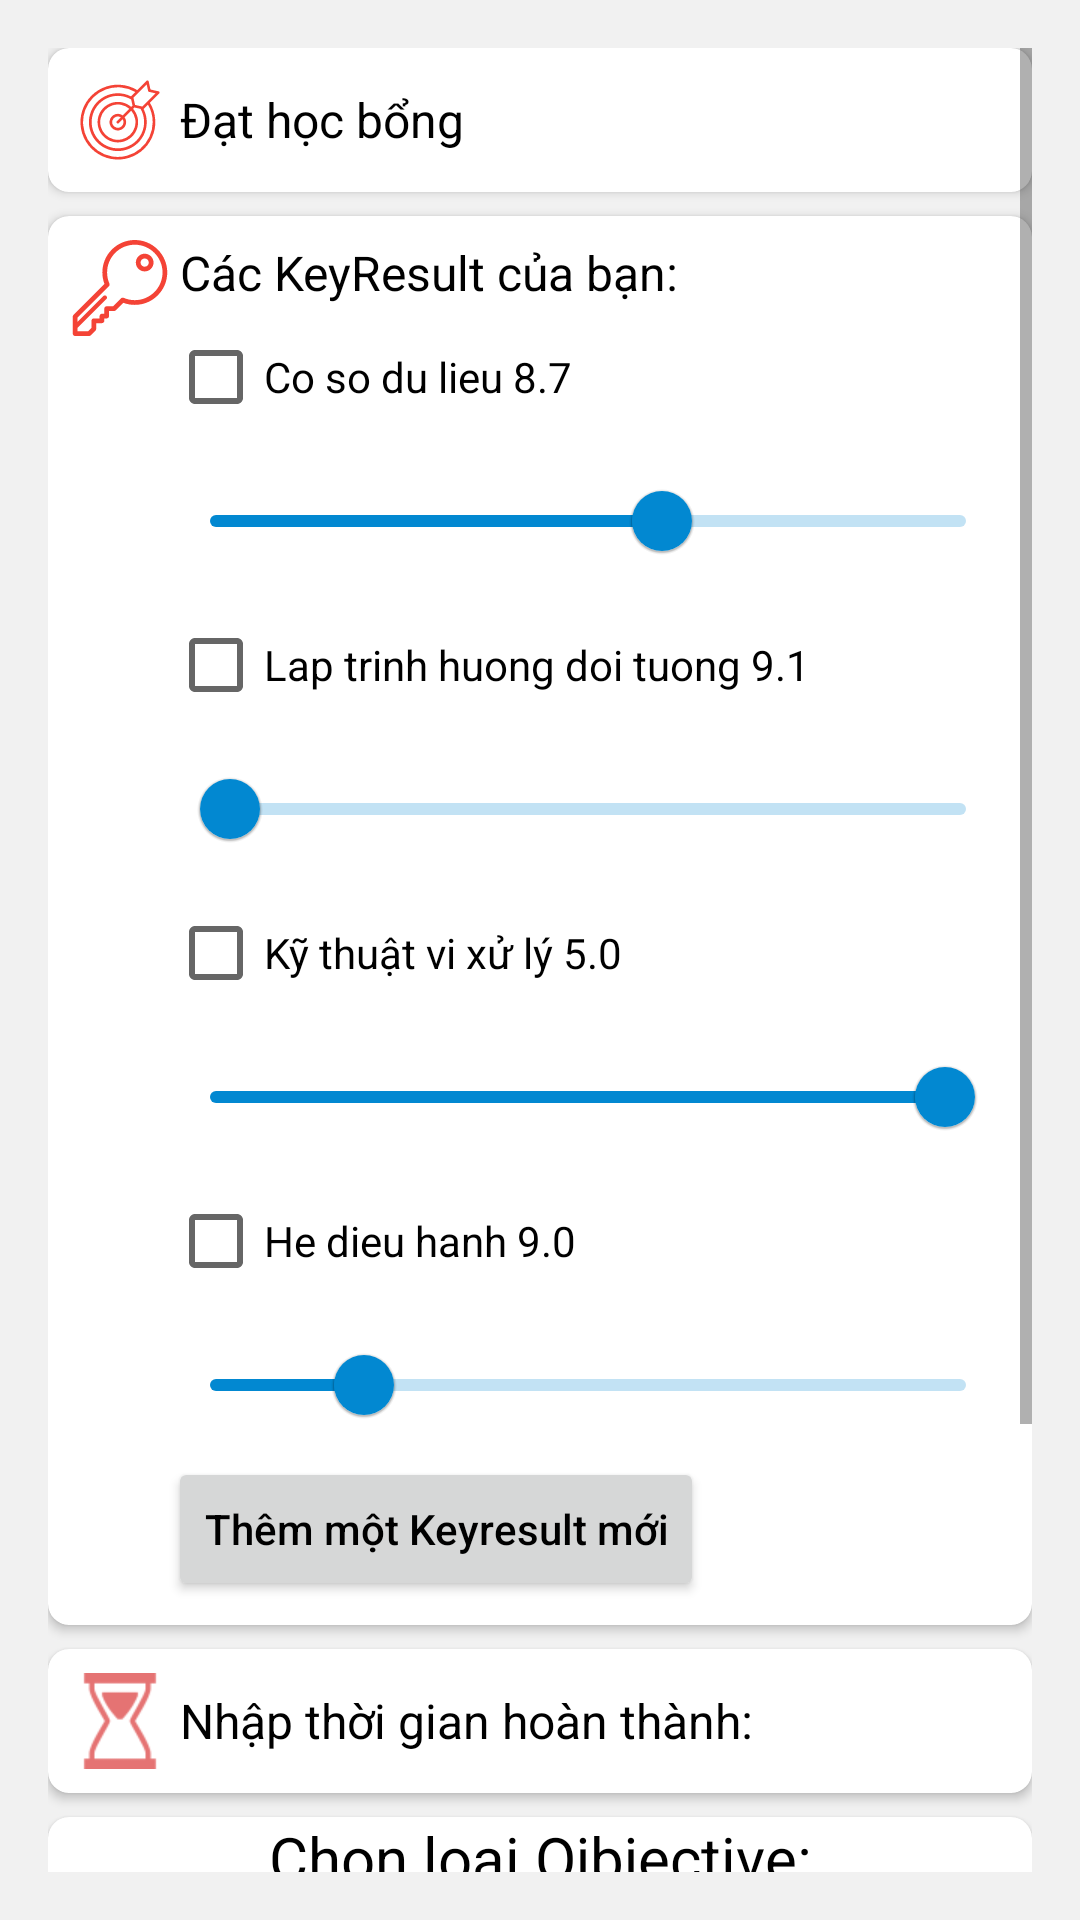

Where icons sit on this 1080*1920 app screen, as (x1, y1, x2, y2):
clock: (84, 1673, 156, 1769)
goal: (80, 80, 160, 160)
key: (72, 240, 168, 336)
